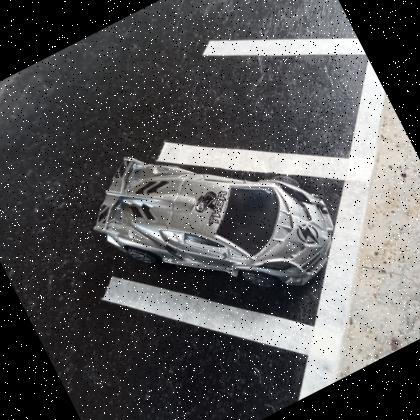Car: (95, 157, 336, 288)
